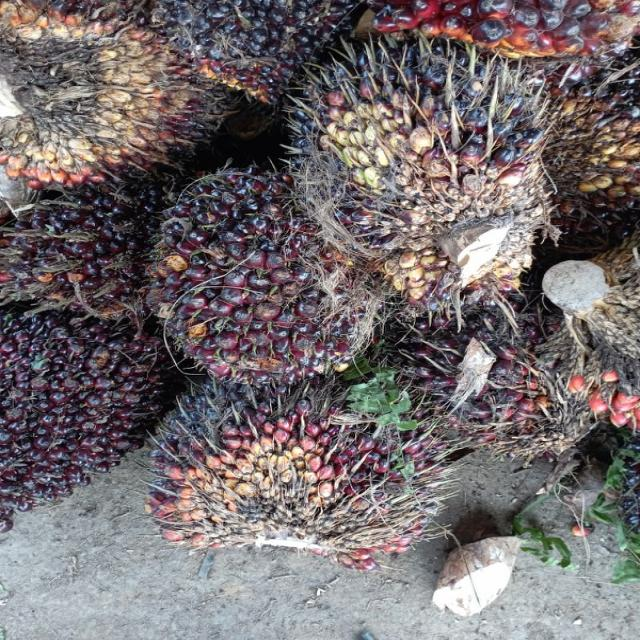fraksi 00: (290, 43, 553, 284), (140, 160, 372, 375), (150, 383, 406, 573), (0, 302, 180, 528)
